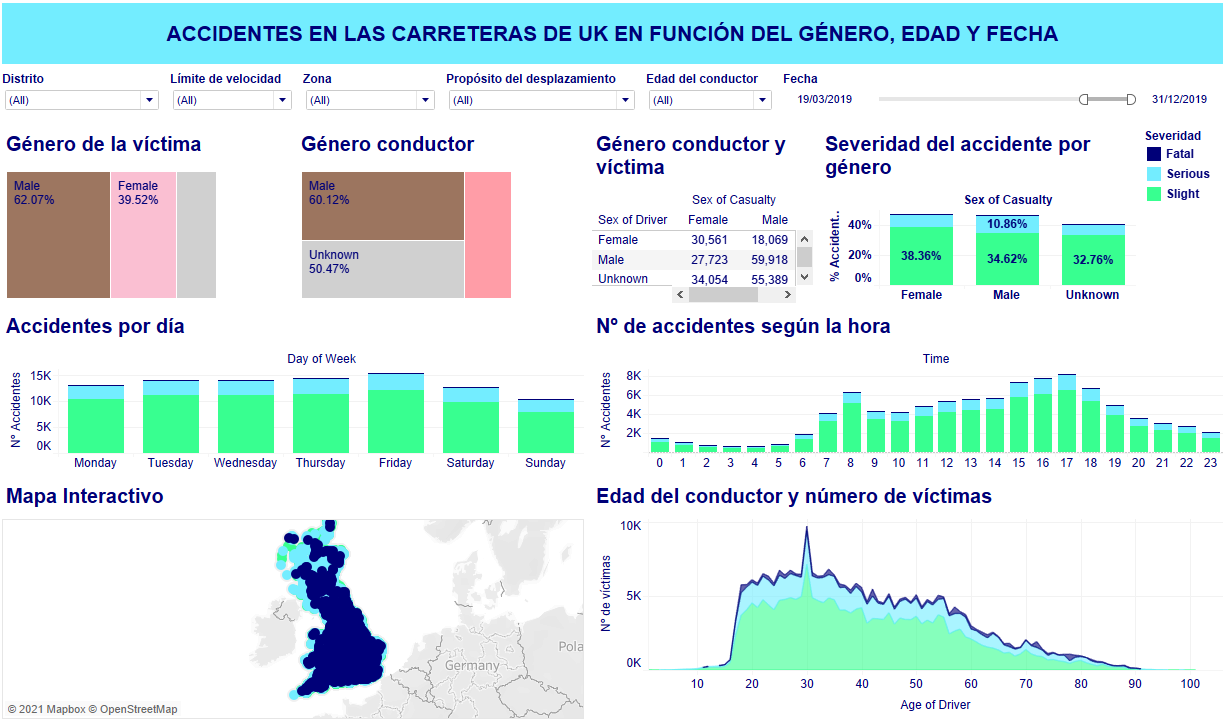

Layout of this report page (visuals, bound fields, positions):
{"tool":"tableau","page":{"name":"Dashboard 1","canvas":[1000,1000],"units":"permille","ordinal":0},"visuals":[{"type":"worksheet","box":[0,0,1000,1000]},{"type":"worksheet","box":[0,0,1000,95]},{"type":"worksheet","param":"horz","box":[0,95,1000,68]},{"type":"worksheet","title":"Map","mark":"Automatic","rows":["Latitude"],"cols":["Longitude"],"param":"[federated.04nik120h1t7f31g1ah4o0ts9ikz].[none:Local_Authority_(District):nk]","box":[0,95,136.7,68]},{"type":"worksheet","title":"Map","mark":"Automatic","rows":["Latitude"],"cols":["Longitude"],"param":"[federated.04nik120h1t7f31g1ah4o0ts9ikz].[none:Speed_limit:nk]","box":[136.7,95,108.2,68]},{"type":"worksheet","title":"Map","mark":"Automatic","rows":["Latitude"],"cols":["Longitude"],"param":"[federated.04nik120h1t7f31g1ah4o0ts9ikz].[none:Urban_or_Rural_Area:nk]","box":[244.9,95,116.4,68]},{"type":"worksheet","title":"Map","mark":"Automatic","rows":["Latitude"],"cols":["Longitude"],"param":"[federated.04nik120h1t7f31g1ah4o0ts9ikz].[none:Journey_Purpose_of_Driver:nk]","box":[361.3,95,162.7,68]},{"type":"worksheet","title":"DriverAgeVsCasualityN","mark":"Area","rows":["Number_of_Casualties"],"cols":["Age_of_Driver"],"param":"[federated.04nik120h1t7f31g1ah4o0ts9ikz].[none:Age_of_Driver:ok]","box":[524,95,111.5,68]},{"type":"worksheet","title":"AccidentsByHour","mark":"Bar","rows":["Calculation_786722609551450112"],"cols":["Time"],"param":"[federated.04nik120h1t7f31g1ah4o0ts9ikz].[none:Date:qk]","box":[635.5,95,364.5,68]},{"type":"worksheet","box":[0,163,1000,262]},{"type":"worksheet","param":"horz","box":[0,163,480.1,262]},{"type":"worksheet","title":"SexCasualityN","mark":"Automatic","box":[0,163,240,262.4]},{"type":"worksheet","title":"SexDriverN","mark":"Automatic","box":[240,163,240,262.4]},{"type":"worksheet","box":[480.1,163,519.9,262]},{"type":"worksheet","param":"horz","box":[480.1,163,186.3,262]},{"type":"worksheet","title":"SexDriverVsSexCasuality","mark":"Automatic","rows":["Sex_of_Driver"],"cols":["Sex_of_Casualty"],"box":[480.1,163,186.3,258.3]},{"type":"worksheet","param":"horz","box":[666.4,163,333.6,262]},{"type":"worksheet","title":"SexVsSeverity","mark":"Automatic","cols":["Sex_of_Casualty"],"box":[666.4,163,262.8,262]},{"type":"worksheet","title":"SexVsSeverity","mark":"Automatic","cols":["Sex_of_Casualty"],"param":"[federated.04nik120h1t7f31g1ah4o0ts9ikz].[none:Accident_Severity:nk]","box":[929.2,163,70.8,262]},{"type":"worksheet","title":"Sheet 8","mark":"Automatic","rows":["Calculation_786722609551450112"],"cols":["Day_of_Week"],"box":[0,425,480,235]},{"type":"worksheet","title":"AccidentsByHour","mark":"Bar","rows":["Calculation_786722609551450112"],"cols":["Time"],"box":[480,425,520,235]},{"type":"worksheet","title":"Map","mark":"Automatic","rows":["Latitude"],"cols":["Longitude"],"box":[0,660,480,340]},{"type":"worksheet","title":"DriverAgeVsCasualityN","mark":"Area","rows":["Number_of_Casualties"],"cols":["Age_of_Driver"],"box":[480,660,520,340]}]}

Visuals, with their boxes on the dashboard's canvas, which has no fixed pixel size, in thousandths of its width and height (x1, y1, x2, y2). These are canvas units, not pixel positions in the 1225x722 screenshot, which may show the page scaled, cropped or inside an application window:
worksheet: bbox=[0, 0, 1000, 1000]
worksheet: bbox=[0, 0, 1000, 95]
worksheet: bbox=[0, 95, 1000, 163]
"Map" worksheet: bbox=[0, 95, 137, 163]
"Map" worksheet: bbox=[137, 95, 245, 163]
"Map" worksheet: bbox=[245, 95, 361, 163]
"Map" worksheet: bbox=[361, 95, 524, 163]
"DriverAgeVsCasualityN" worksheet (Area marks): bbox=[524, 95, 636, 163]
"AccidentsByHour" worksheet (Bar marks): bbox=[636, 95, 1000, 163]
worksheet: bbox=[0, 163, 1000, 425]
worksheet: bbox=[0, 163, 480, 425]
"SexCasualityN" worksheet: bbox=[0, 163, 240, 425]
"SexDriverN" worksheet: bbox=[240, 163, 480, 425]
worksheet: bbox=[480, 163, 1000, 425]
worksheet: bbox=[480, 163, 666, 425]
"SexDriverVsSexCasuality" worksheet: bbox=[480, 163, 666, 421]
worksheet: bbox=[666, 163, 1000, 425]
"SexVsSeverity" worksheet: bbox=[666, 163, 929, 425]
"SexVsSeverity" worksheet: bbox=[929, 163, 1000, 425]
"Sheet 8" worksheet: bbox=[0, 425, 480, 660]
"AccidentsByHour" worksheet (Bar marks): bbox=[480, 425, 1000, 660]
"Map" worksheet: bbox=[0, 660, 480, 1000]
"DriverAgeVsCasualityN" worksheet (Area marks): bbox=[480, 660, 1000, 1000]
